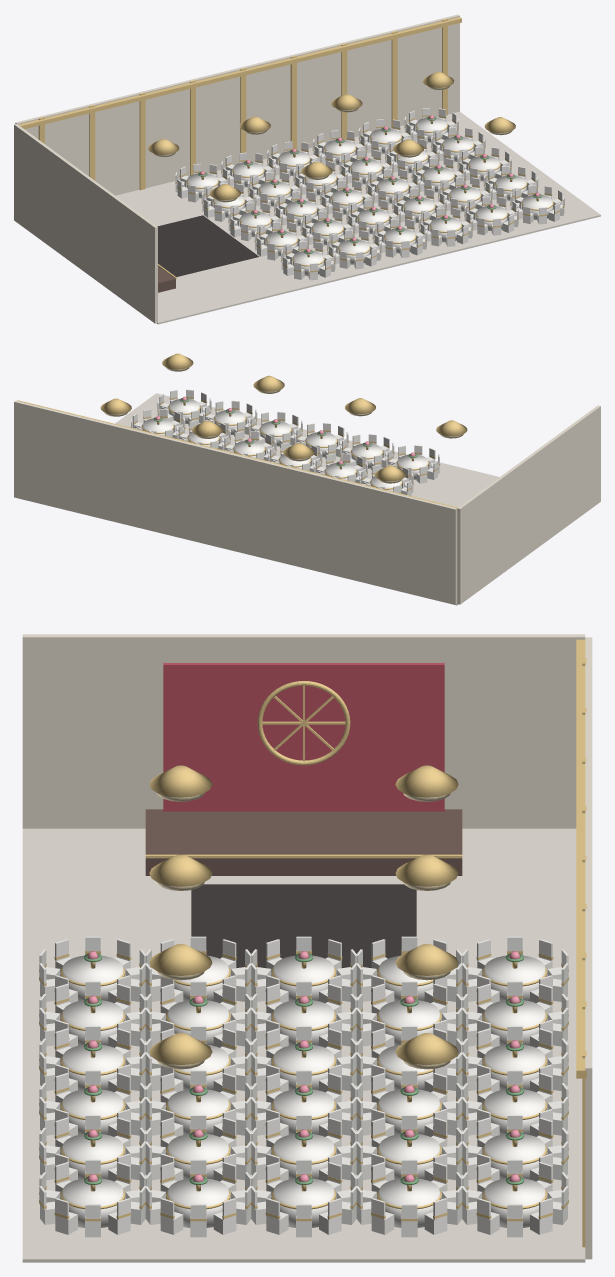
The model's file is hall.glb.
The picture shows the model from 3 angles, top to bottom: view 1: azimuth 30°, elevation 25°; view 2: azimuth 150°, elevation 25°; view 3: azimuth 270°, elevation 25°; orthographic projection. The views are drawn at different scales.
Parts seen in each view (by area): view 1: WallBack.001, Floor, WallLeft, DanceFloor, Cornice, Table_03, Table_18, Table_13, Table_23, Table_08, Table_28, Table_01 (+31 smaller); view 2: WallBack.001, WallLeft, Floor, Table_03, Table_08, Table_18, Table_28, Table_23, Table_13, Table_26, Table_06, Table_16 (+12 smaller); view 3: Floor, WallLeft, Backdrop, Stage, DanceFloor, Table_26, Table_27, Table_29, Table_28, Table_25, WallBack.001, Table_03 (+35 smaller).
Part boxes in pixels (x1,y1,x2,y2): WallBack.001: [15, 14, 459, 195]; Floor: [115, 111, 600, 324]; WallLeft: [14, 124, 157, 323]; DanceFloor: [157, 215, 259, 276]; Cornice: [18, 17, 461, 129]; Table_03: [281, 241, 335, 280]; Table_18: [418, 207, 473, 246]; Table_13: [372, 219, 427, 257]; Table_23: [464, 196, 518, 235]; Table_08: [327, 230, 381, 269]; Table_28: [510, 185, 564, 224]; Table_01: [254, 222, 309, 260]; WallBack.001: [14, 400, 457, 604]; WallLeft: [457, 405, 600, 604]; Floor: [115, 393, 499, 605]; Table_03: [385, 445, 440, 483]; Table_08: [340, 434, 394, 469]; Table_18: [248, 412, 302, 447]; Table_28: [157, 389, 211, 425]; Table_23: [203, 400, 257, 437]; Table_13: [294, 423, 348, 460]; Table_26: [130, 409, 185, 438]; Table_06: [313, 453, 367, 483]; Table_16: [222, 431, 276, 460]; Floor: [22, 828, 585, 1262]; WallLeft: [22, 634, 585, 828]; Backdrop: [163, 663, 444, 811]; Stage: [145, 809, 462, 875]; DanceFloor: [191, 884, 416, 967]; Table_26: [145, 1160, 251, 1237]; Table_27: [356, 1160, 462, 1237]; Table_29: [461, 1160, 568, 1237]; Table_28: [39, 1160, 146, 1237]; Table_25: [250, 1160, 357, 1237]; WallBack.001: [585, 637, 592, 1259]; Table_03: [39, 936, 145, 1003].
Size of the model in its own units: 29.2 by 6.1 by 16.2.
